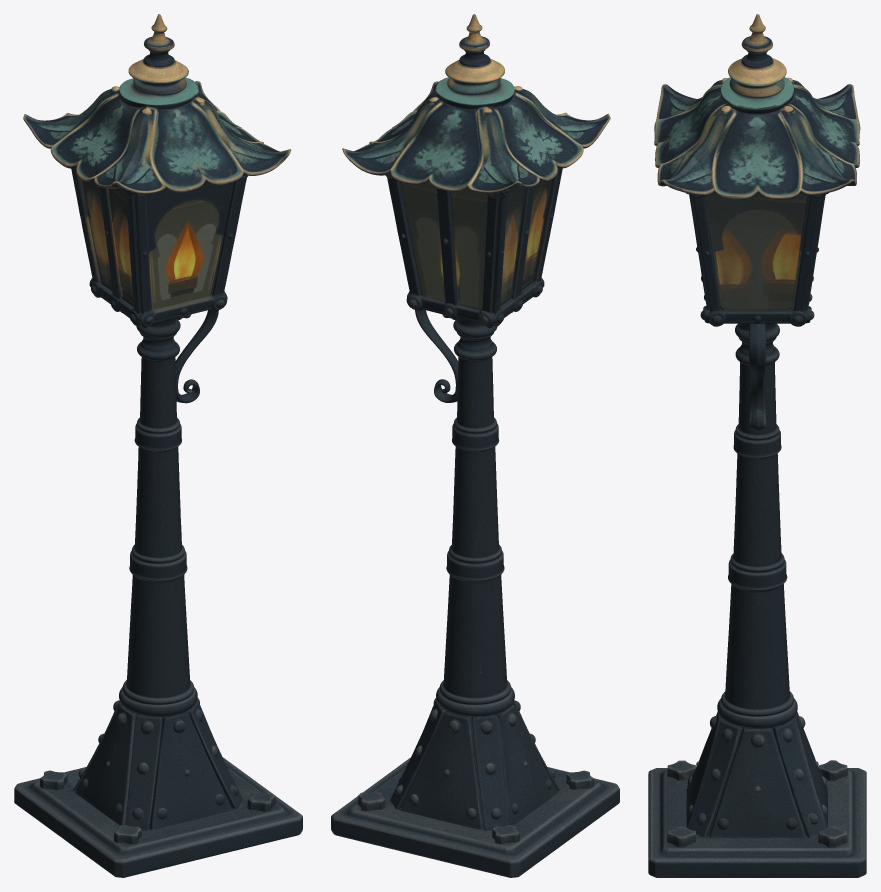
File: Meshy_AI_Vintage_Gas_Street_La_1029174310_texture.glb
3 views of the same model, side by side, from view 1: azimuth 30°, elevation 25°; view 2: azimuth 150°, elevation 25°; view 3: azimuth 270°, elevation 25° (orthographic).
Size of the model in its own units: 0.4681 by 1.9 by 0.4597.
1 material, 1 textured.
